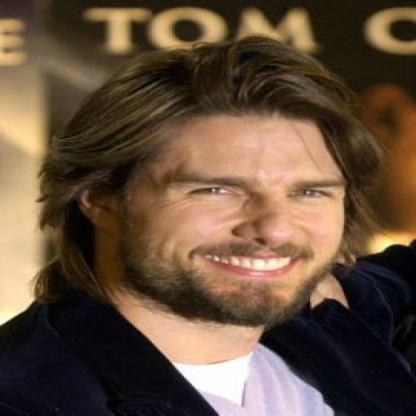face: (116, 68, 362, 330)
